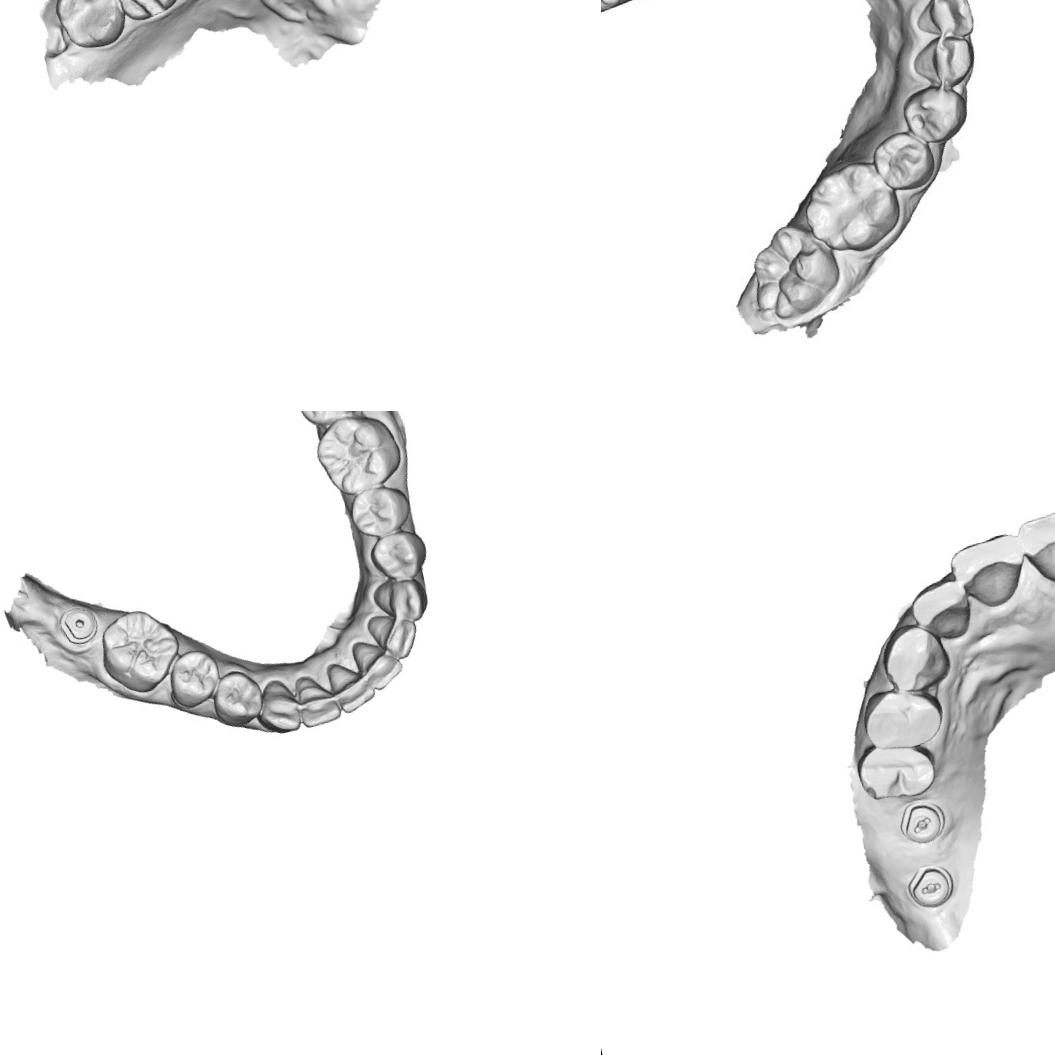canine: (876, 618, 955, 698), (906, 29, 979, 94), (367, 565, 434, 630), (250, 674, 306, 739)
implant: (53, 602, 103, 652)
implant_minus: (890, 794, 950, 849), (900, 862, 955, 911)
incisor: (945, 528, 1032, 614), (903, 572, 975, 645), (289, 663, 348, 732), (1012, 500, 1055, 593), (364, 604, 425, 666), (350, 631, 408, 696), (324, 650, 380, 716), (909, 0, 979, 46)
inlay: (118, 0, 180, 23)
molar: (795, 154, 908, 263), (739, 215, 849, 326), (91, 600, 190, 701), (308, 411, 408, 502), (48, 0, 130, 57), (280, 411, 377, 432)
premolar: (855, 678, 948, 756), (852, 734, 940, 807), (896, 79, 974, 150), (868, 124, 940, 198), (160, 644, 225, 716), (344, 480, 417, 542), (206, 663, 269, 732), (364, 525, 434, 587)
